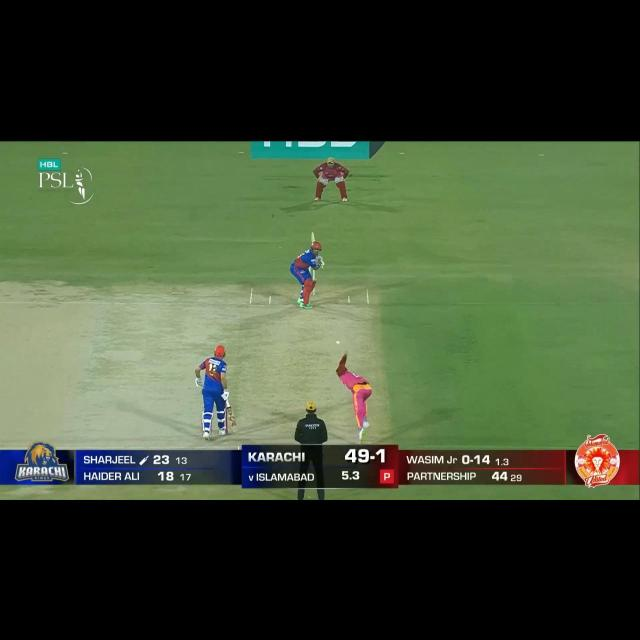bat: (227, 404, 239, 433), (311, 234, 316, 243)
toe: (309, 230, 316, 243), (230, 424, 240, 433)
